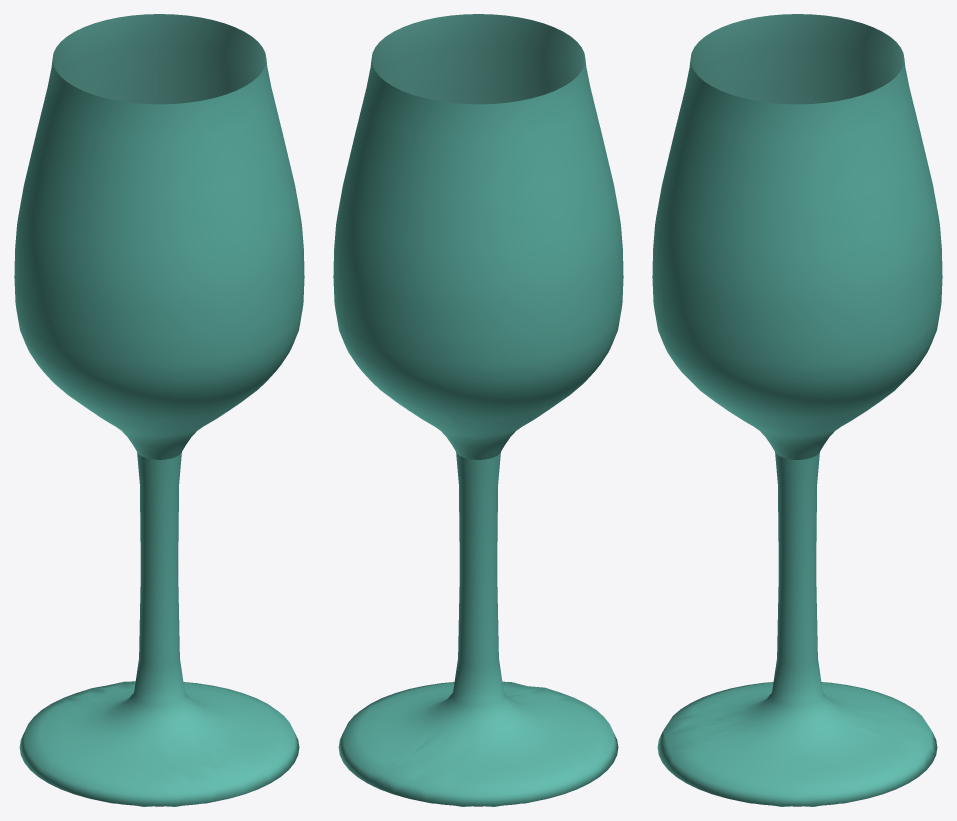
File: chalice_centered.dae
3 renders of one model, left to right at view 1: azimuth 30°, elevation 25°; view 2: azimuth 150°, elevation 25°; view 3: azimuth 270°, elevation 25°, orthographic.
Visible parts, largest first — view 1: SketchUp; view 2: SketchUp; view 3: SketchUp.
Part boxes in pixels (x1,y1,x2,y2): SketchUp: (14,14,304,806); SketchUp: (333,14,623,806); SketchUp: (652,14,942,806).
Size of the model in its own units: 1.32 by 1.32 by 3.52.
